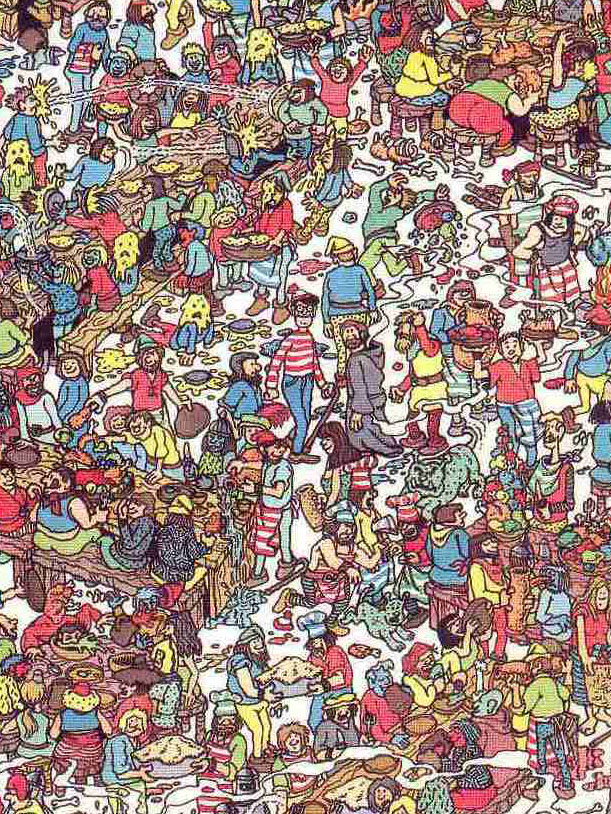waldo: (289, 284, 319, 330)
